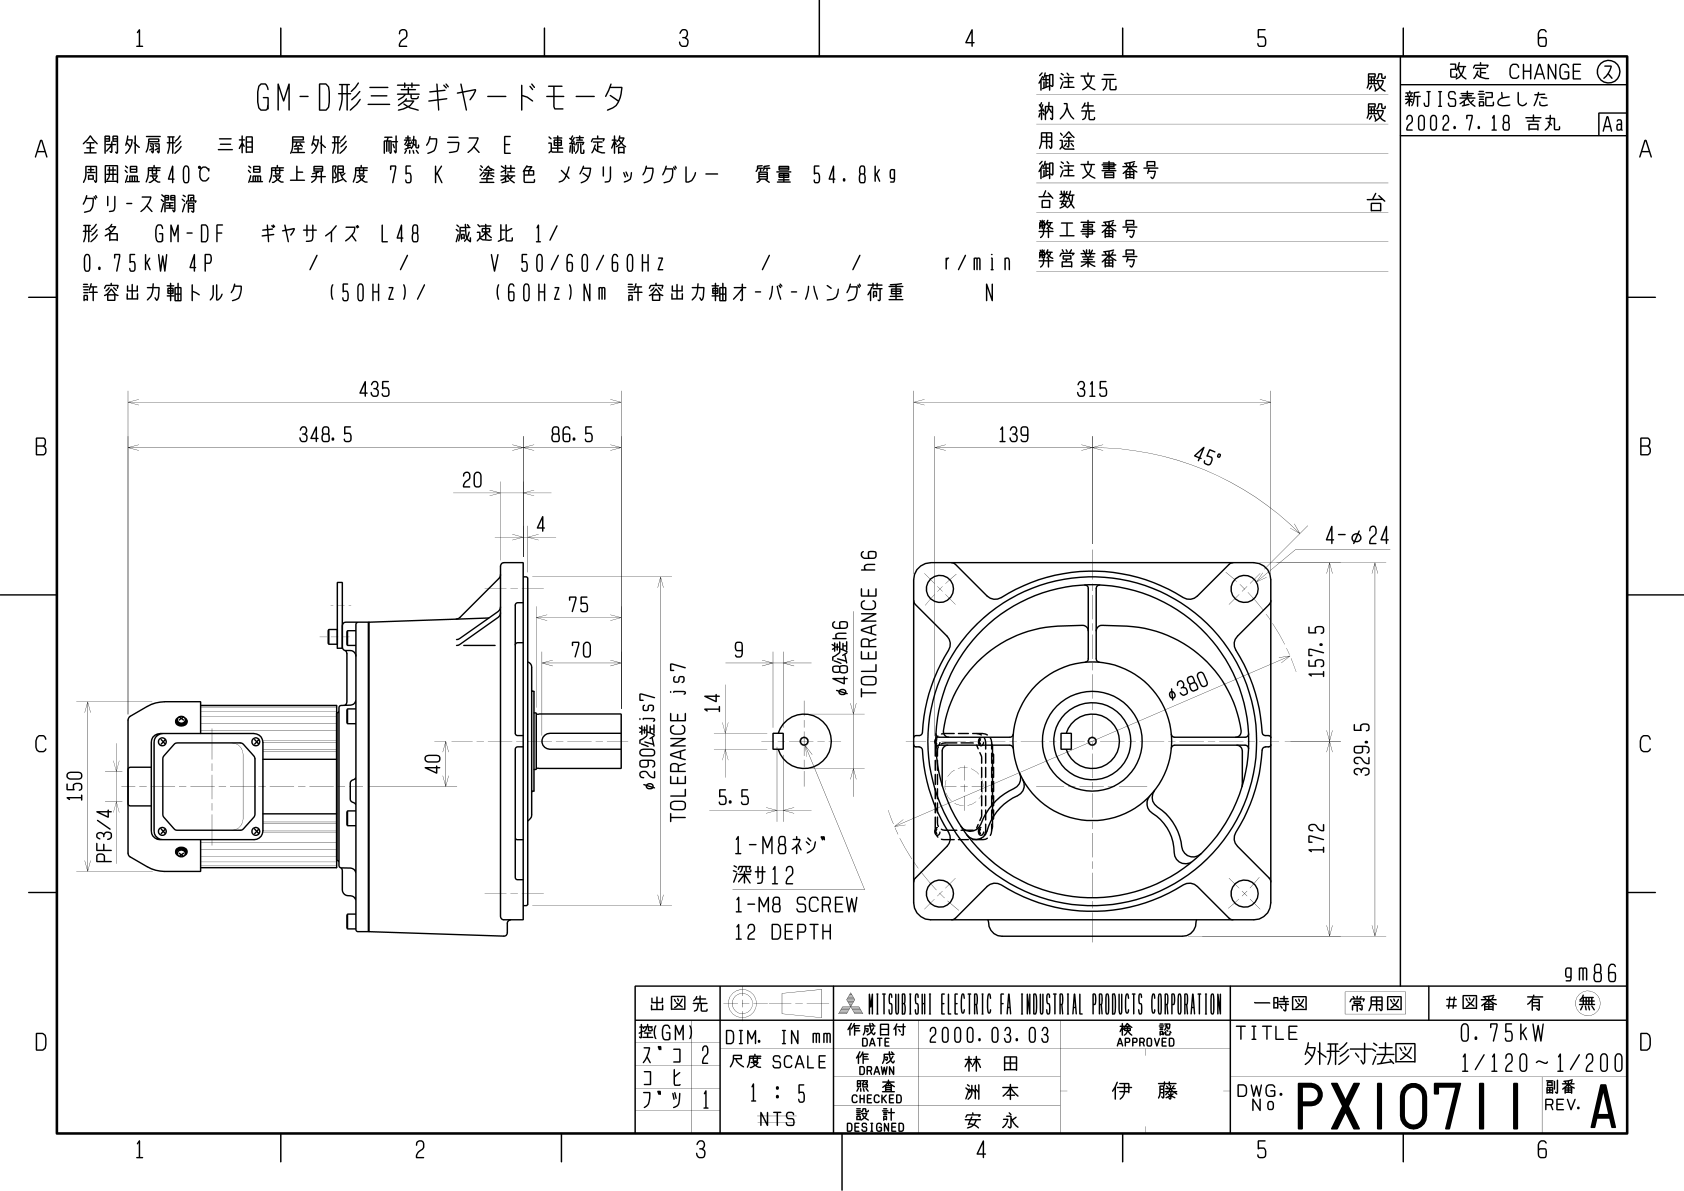GM_D_屋外＿三相_フランジ: (61, 339, 1399, 967)
